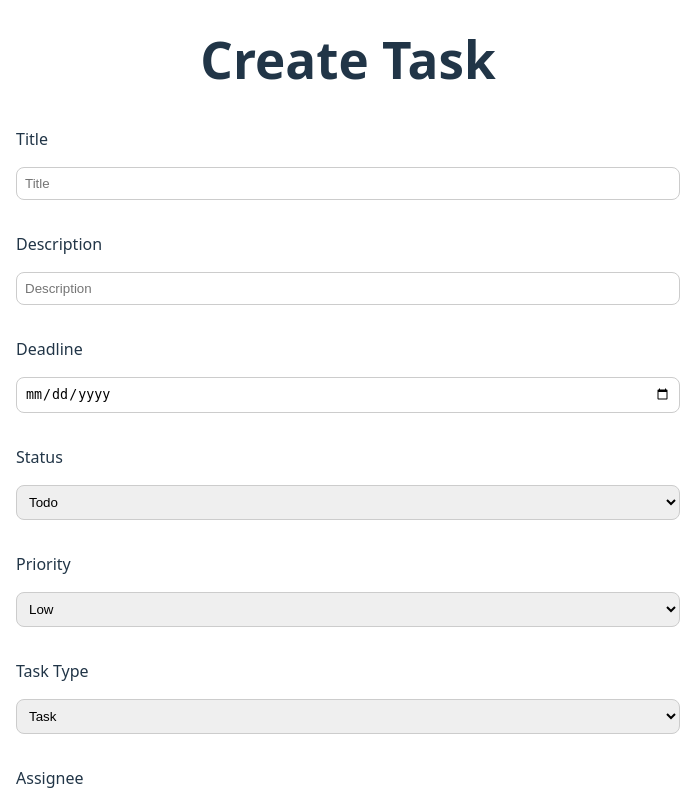
it: CreateTaskPage › should show the toast when the task is created successfully
Type "Test Task" into the field with placeholder "Title" at {"x": 348, "y": 184}, box x1=16 y1=167 x2=680 y2=200
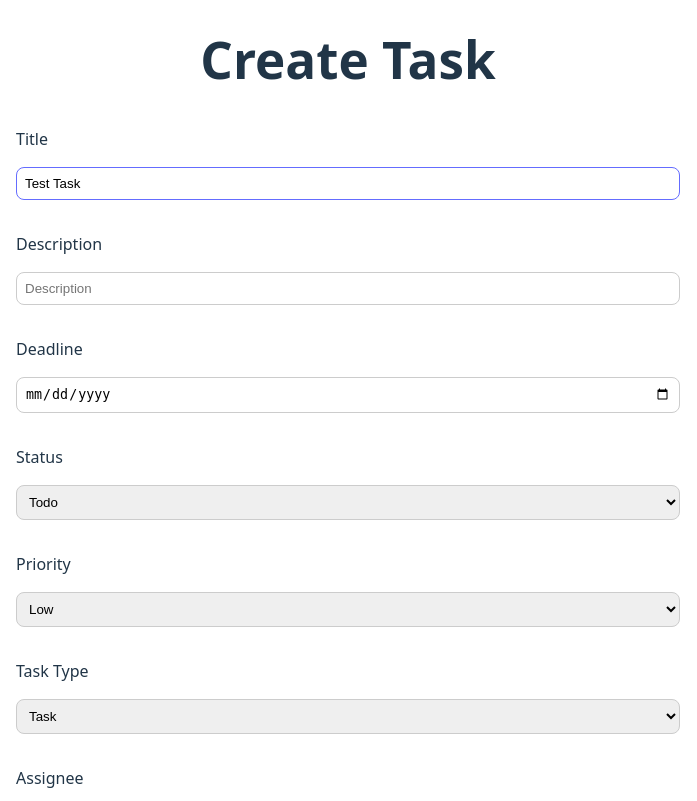
Press Tab
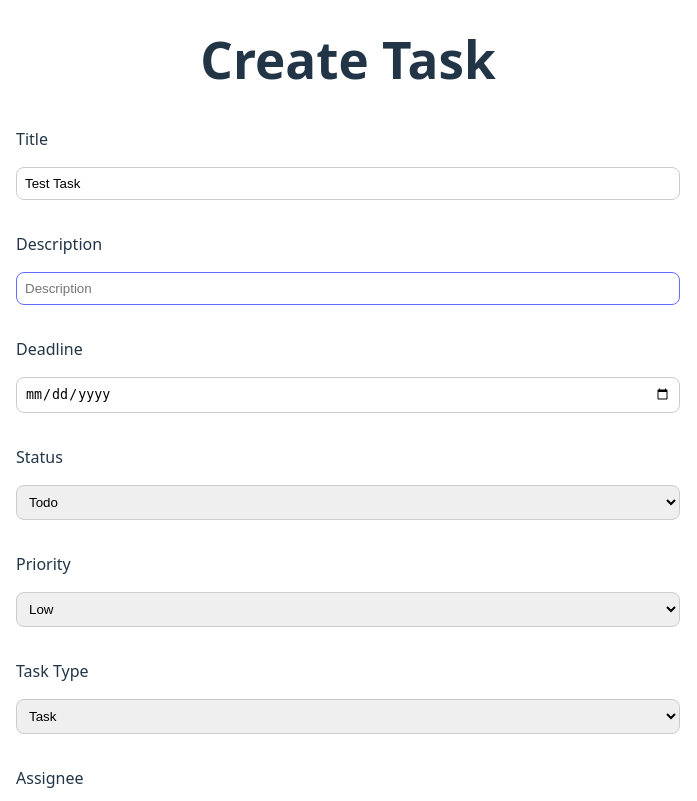
Type "2099-12-31" into the date field labelled "Deadline" at {"x": 348, "y": 395}, box x1=16 y1=377 x2=680 y2=413
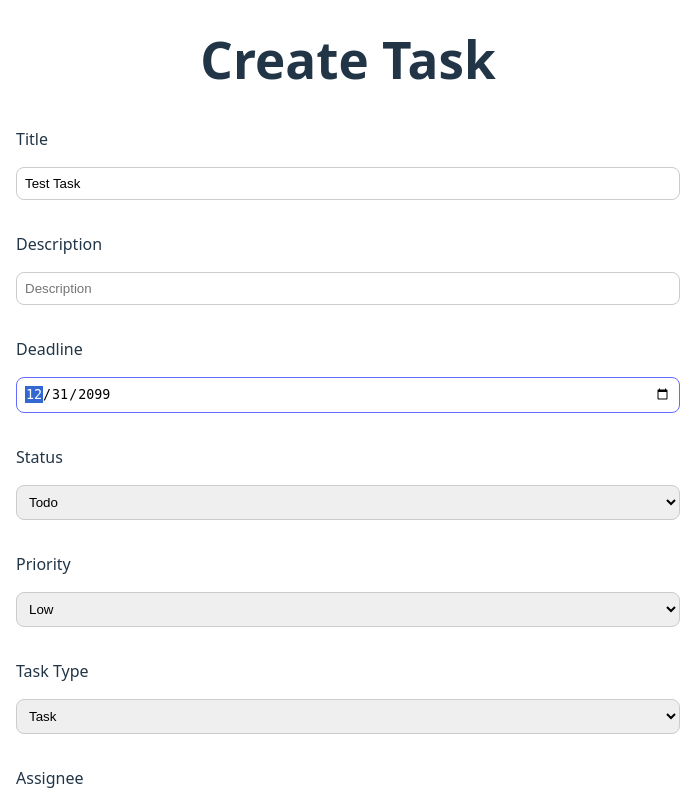
Press Tab
(page scrolled)
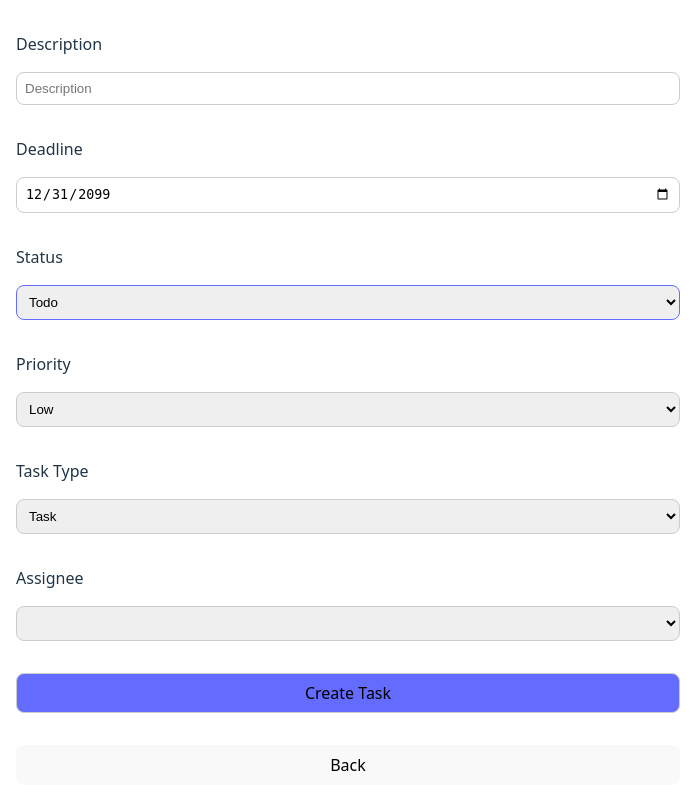
Click the button "Create Task" at {"x": 348, "y": 693}, box x1=16 y1=673 x2=680 y2=713
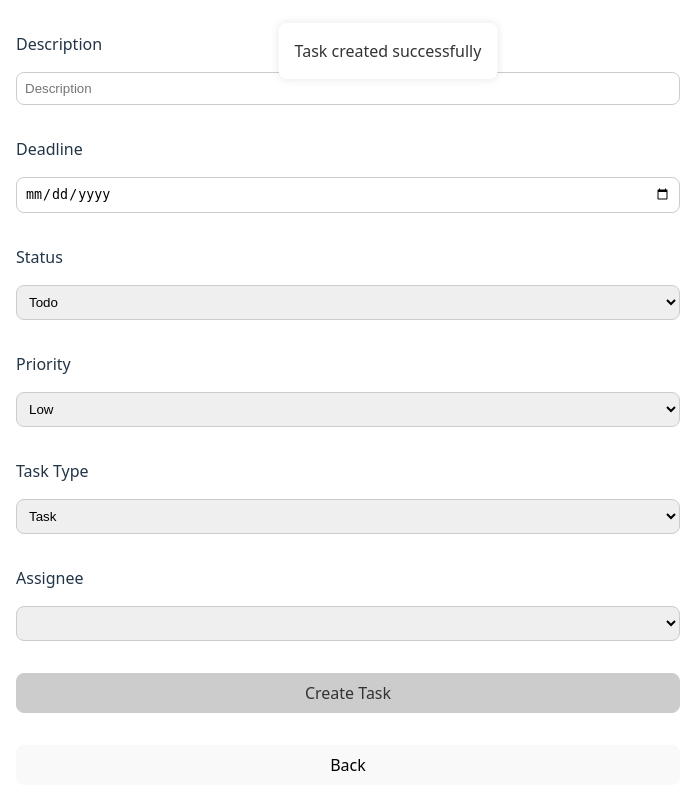
expect the text "Task created successfully" is shown: met, box x1=295 y1=39 x2=481 y2=63
